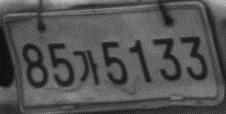1: (127, 38, 152, 84)
3: (152, 37, 181, 82), (179, 35, 208, 80)
5: (47, 40, 74, 87), (100, 40, 128, 85)
8: (21, 42, 48, 89)
가: (72, 49, 100, 86)
